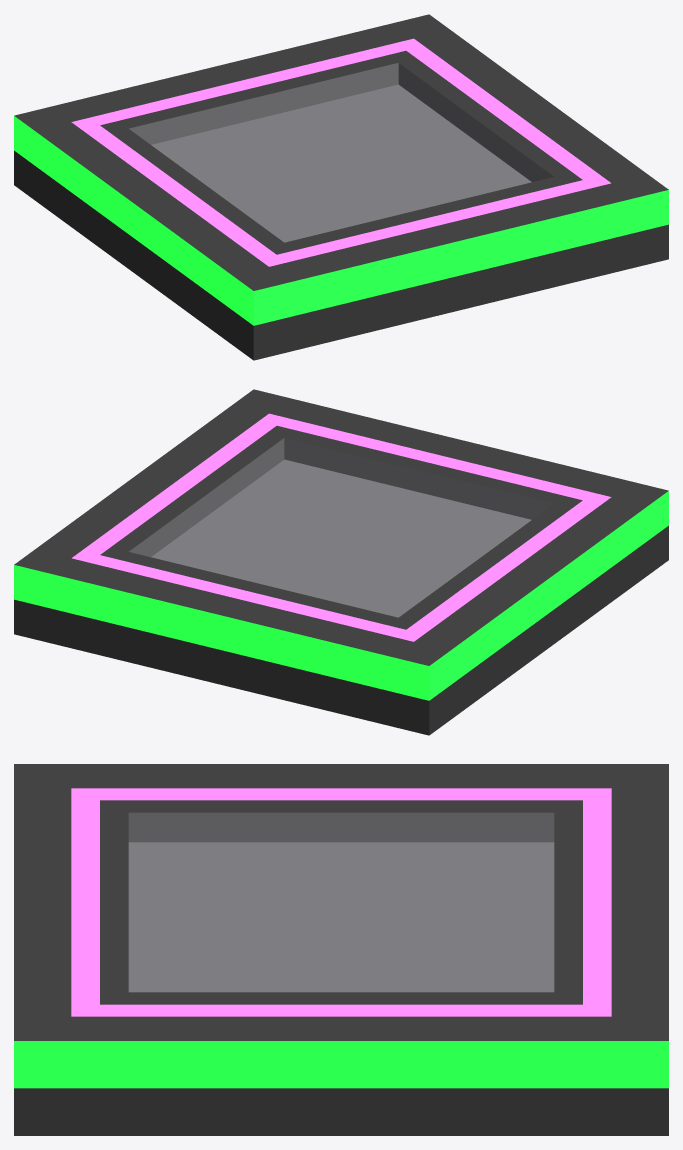
The model's file is Ceiling Platform.fbx.
3 renders of one model, top to bottom at view 1: azimuth 30°, elevation 25°; view 2: azimuth 150°, elevation 25°; view 3: azimuth 270°, elevation 25°, orthographic. The views are drawn at different scales.
Visible parts, largest first — view 1: Ceiling Platform; view 2: Ceiling Platform; view 3: Ceiling Platform.
Part boxes in pixels (left/top/right/bottom): Ceiling Platform: left=14, top=14, right=668, bottom=360; Ceiling Platform: left=14, top=389, right=668, bottom=735; Ceiling Platform: left=14, top=764, right=668, bottom=1135.
Bounding box in the file's own units: 2000 × 320 × 2000.
